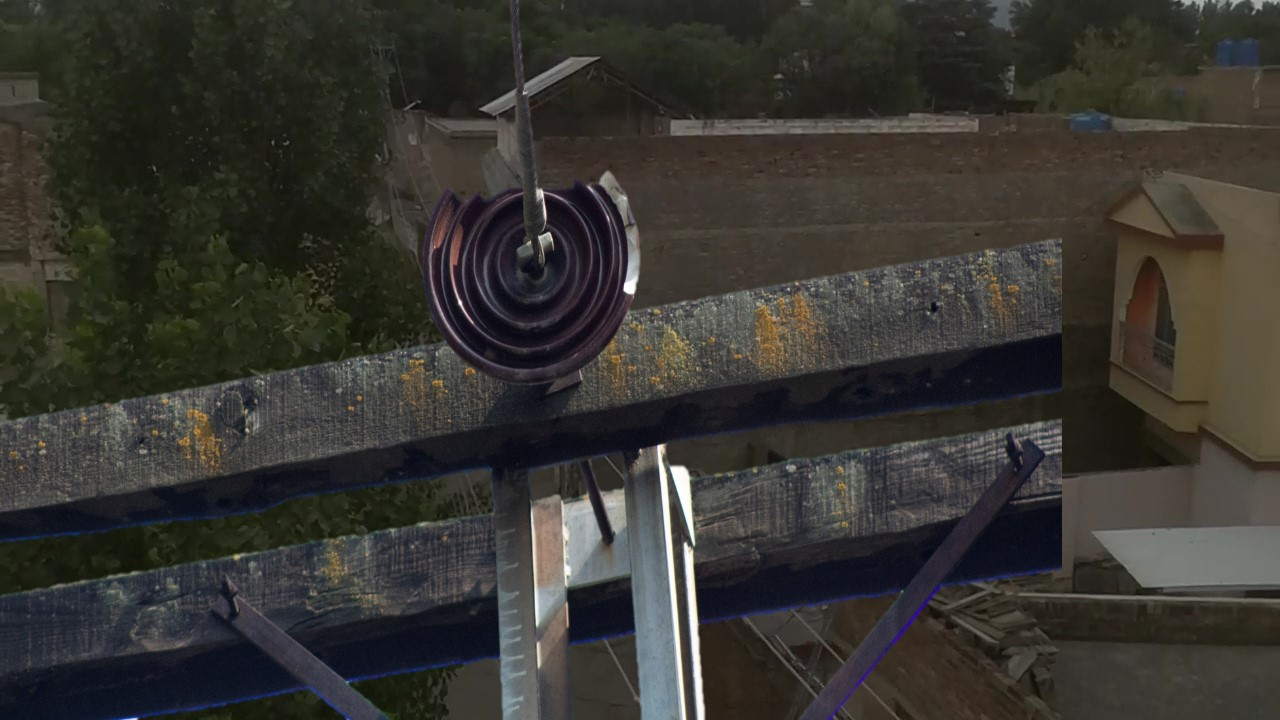defect_disc: (421, 163, 650, 392)
